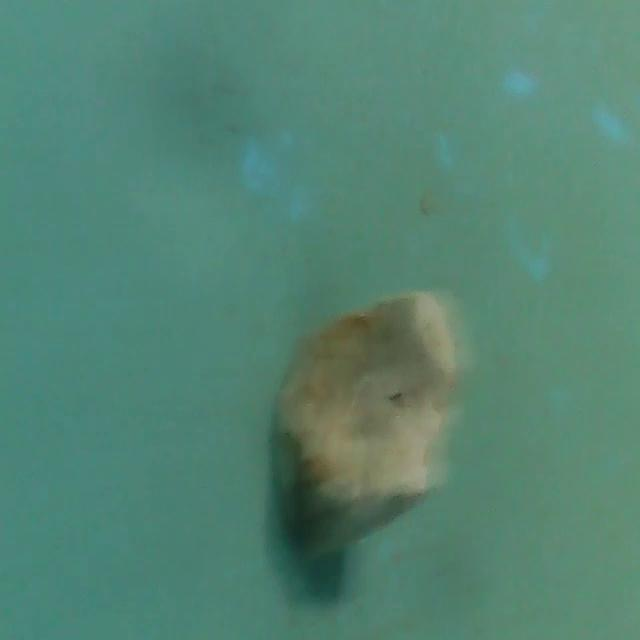rock: (253, 290, 461, 581)
